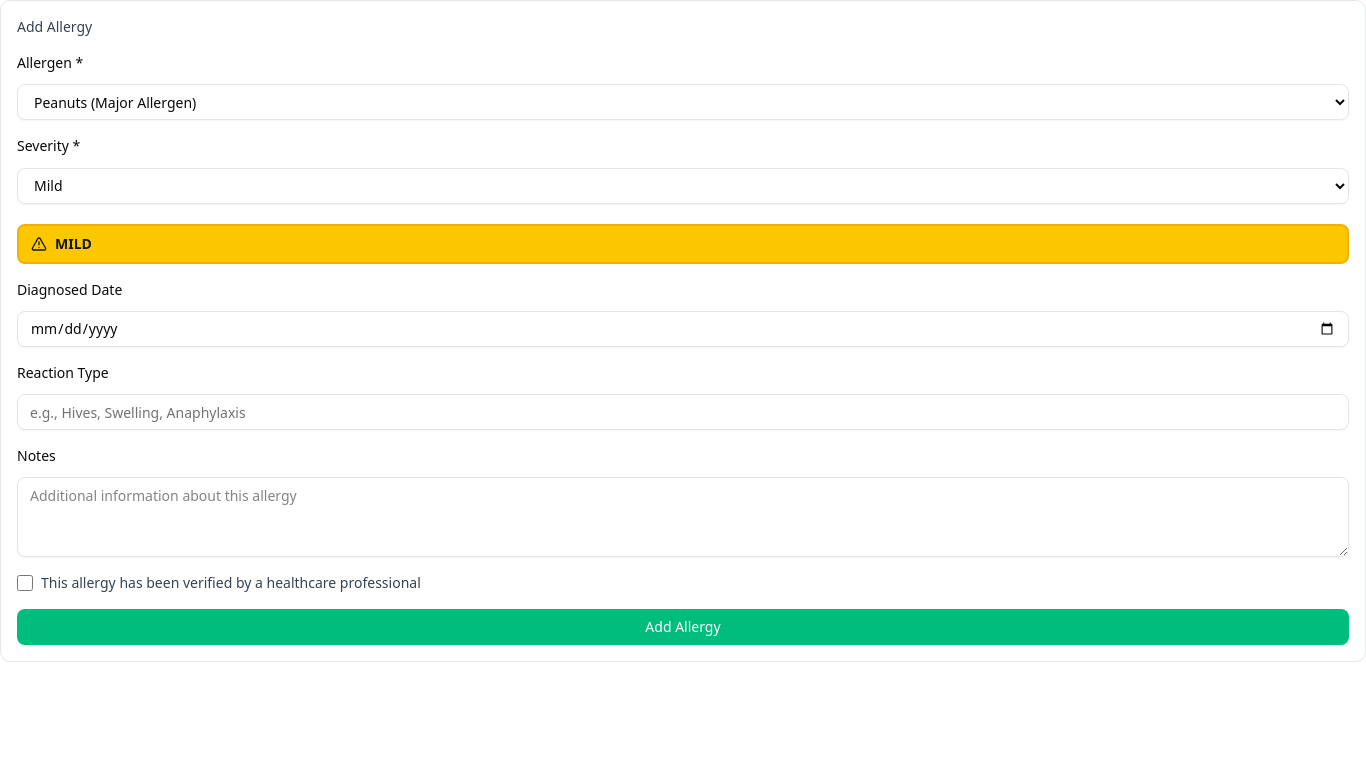
Test: AllergyInput Component › disables submit button while submitting
Click the button "Add Allergy" at [683, 627], box [17,609,1349,645]
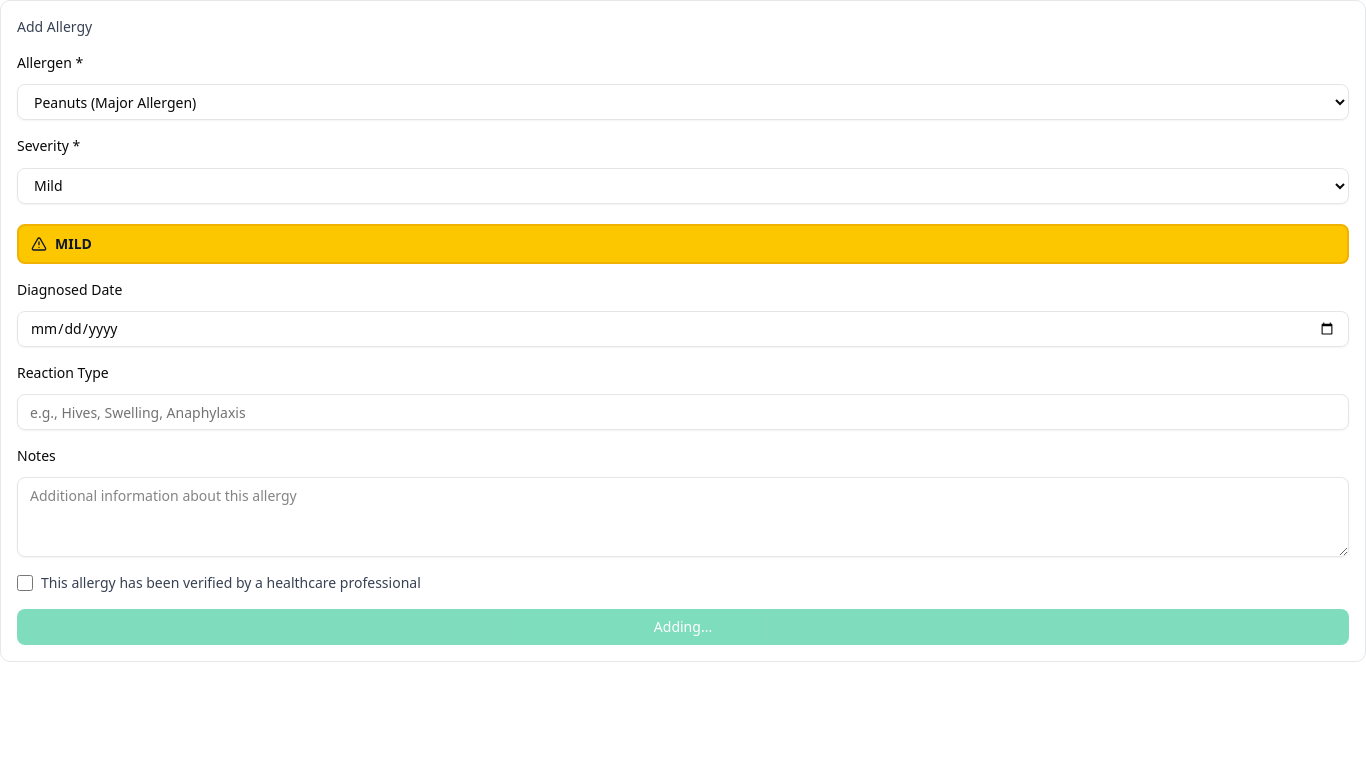
Expected: the button named "add allergy" is disabled, [17,609,1349,645]
Expected: the button named "add allergy" reads "Adding...", [17,609,1349,645]
